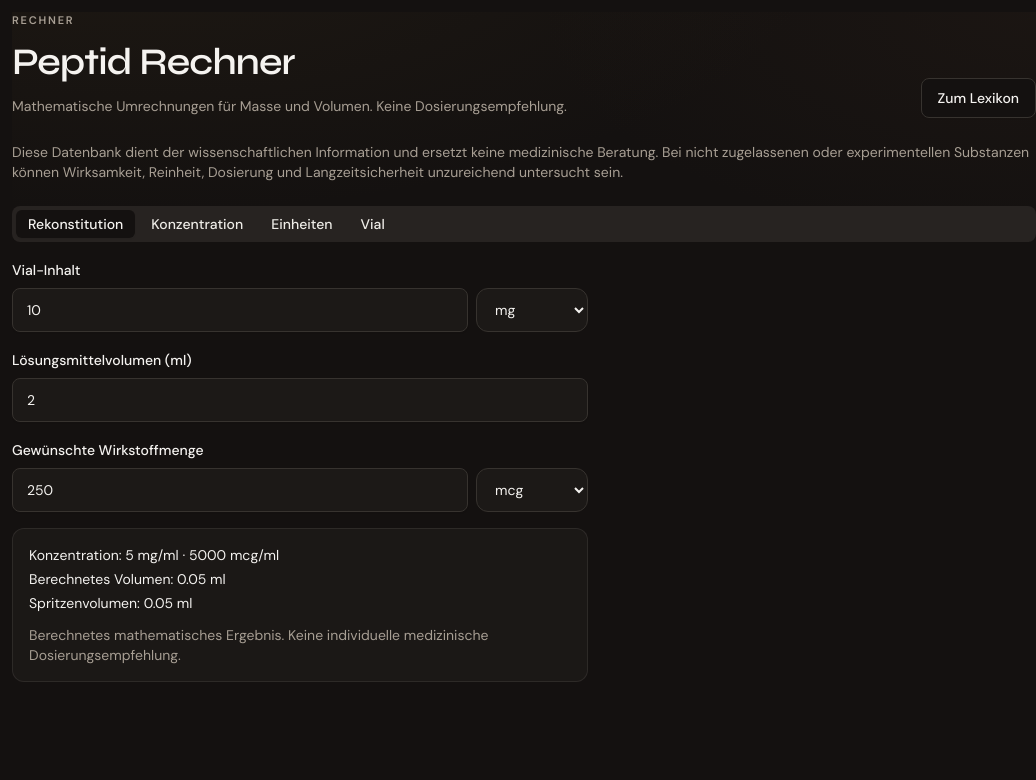
peptide pages that use Button asChild › renders the calculator including reconstitution tab without a Slot crash
This screenshot has width=1036, height=780.
Expected: the heading "Peptid Rechner" is shown, x1=12 y1=38 x2=295 y2=84
Expected: the tab "Rekonstitution" is shown, x1=16 y1=210 x2=135 y2=238
Click the tab "Konzentration": x=197, y=224 x1=139 y1=210 x2=255 y2=238
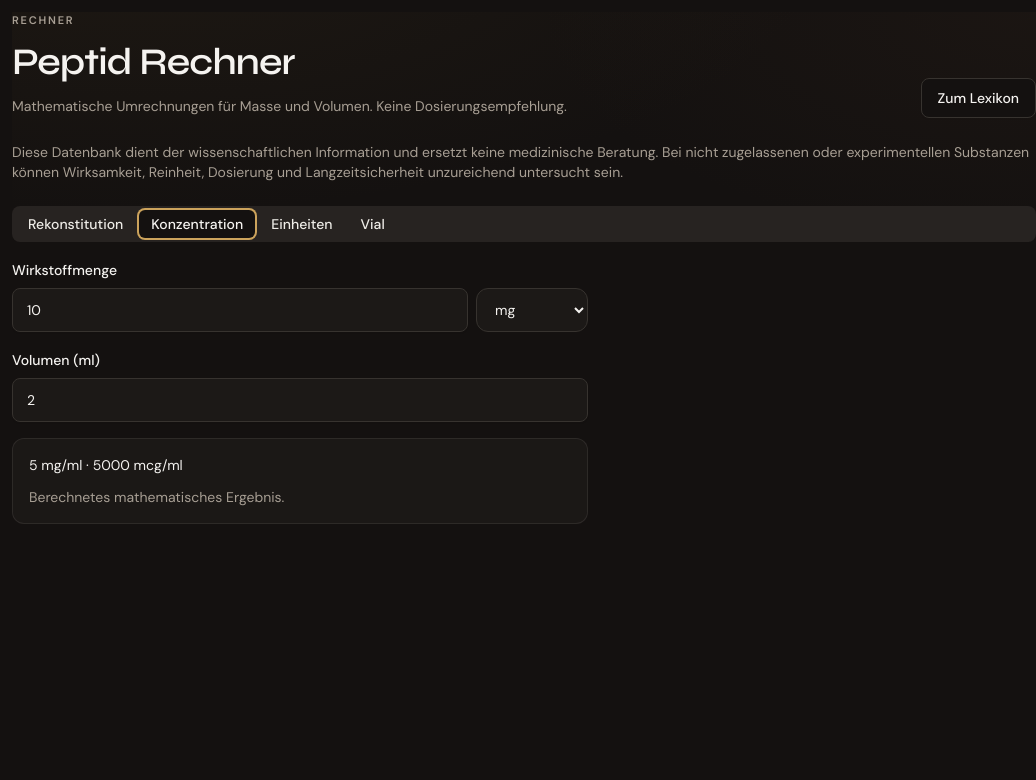
Expected: the field labelled "Wirkstoffmenge" is shown, x1=12 y1=288 x2=468 y2=332
Click the tab "Einheiten": x=302, y=224 x1=259 y1=210 x2=345 y2=238
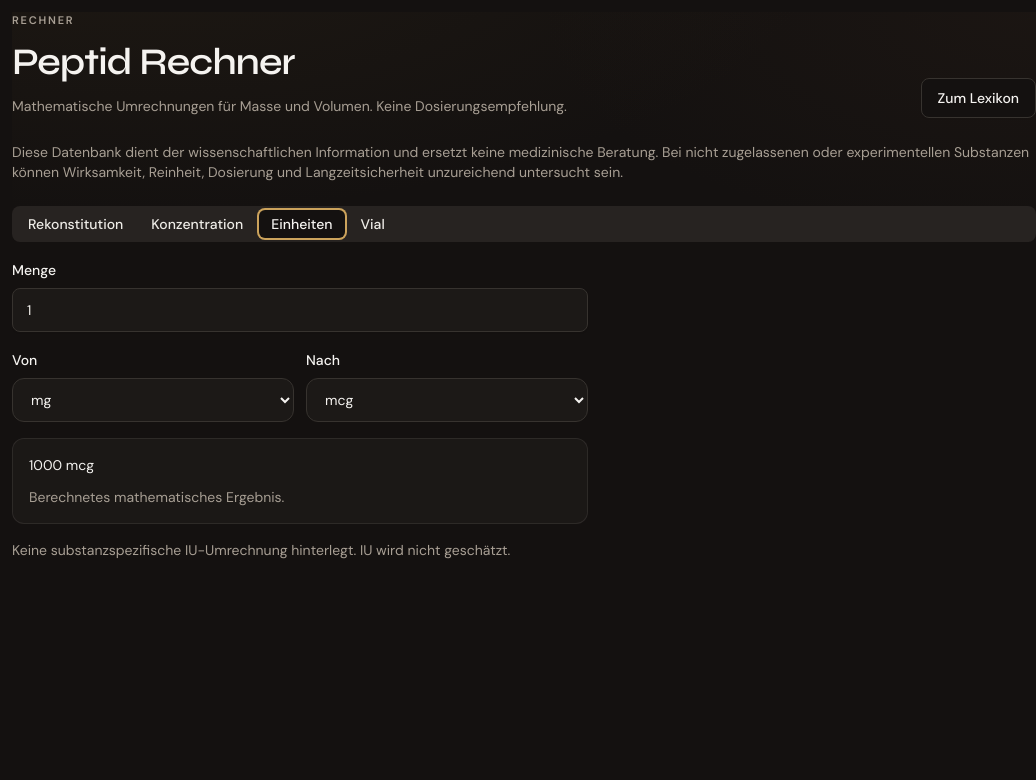
Expected: the field labelled "Menge" is shown, x1=12 y1=288 x2=588 y2=332
Click the tab "Vial": x=373, y=224 x1=349 y1=210 x2=397 y2=238
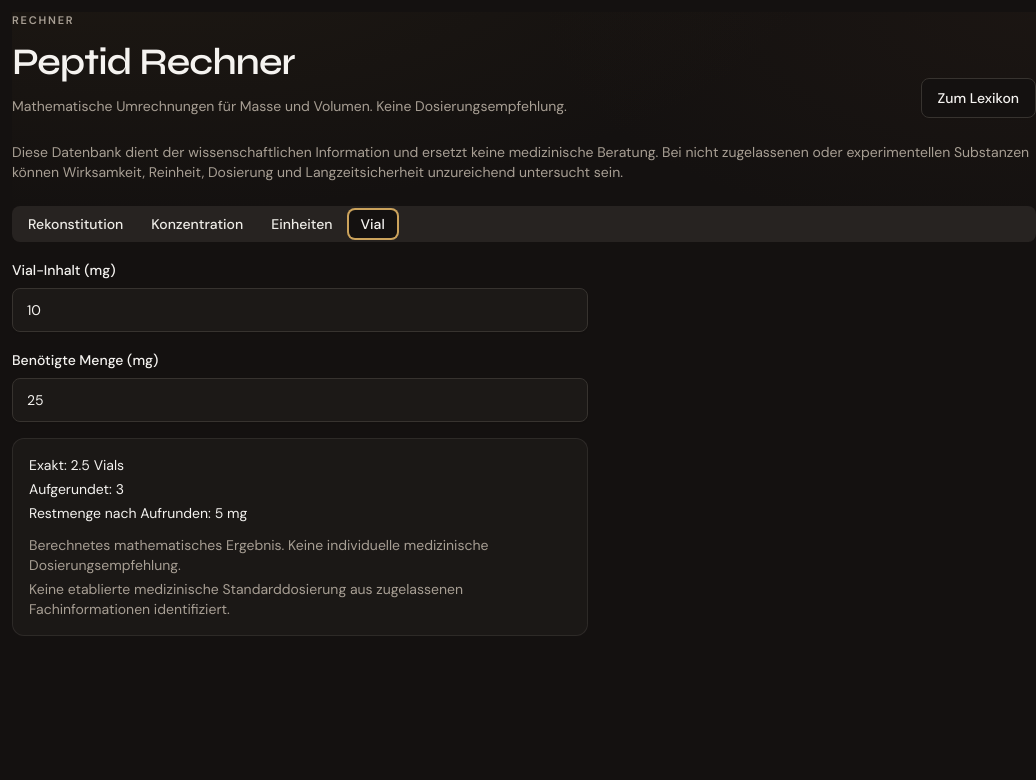
Expected: the field labelled "Vial-Inhalt (mg)" is shown, x1=12 y1=288 x2=588 y2=332
